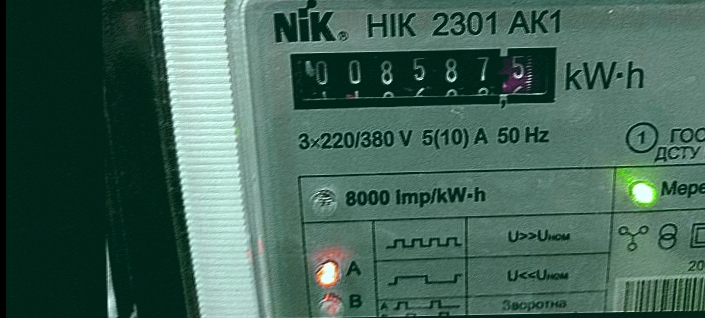0: (312, 54, 329, 83), (346, 54, 363, 82)
5: (510, 50, 527, 79), (410, 52, 427, 80)
7: (474, 50, 491, 80)
8: (442, 51, 459, 82), (378, 54, 394, 83)
screen: (271, 29, 575, 118)
